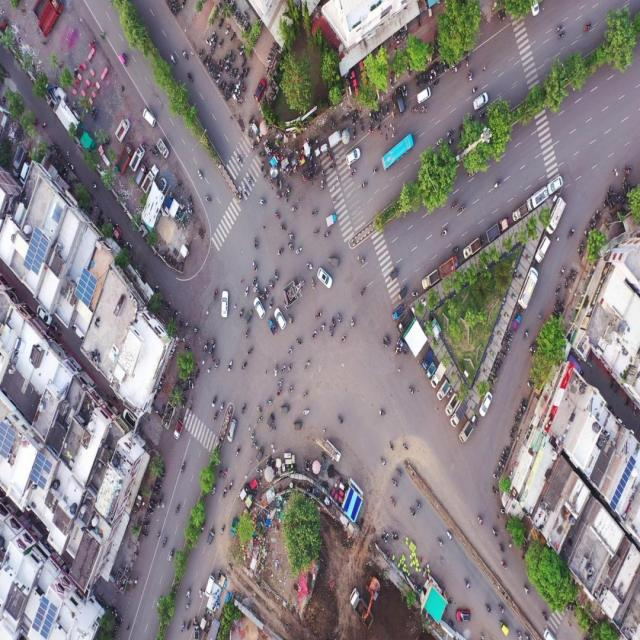3W: (499, 618, 510, 638), (325, 212, 338, 228), (328, 254, 340, 270), (116, 51, 127, 68), (388, 266, 398, 284), (397, 285, 408, 301), (207, 529, 216, 547), (244, 308, 253, 326), (292, 420, 303, 432), (279, 405, 291, 415), (256, 448, 264, 462), (266, 413, 274, 427), (208, 339, 215, 354)
Bus: (380, 132, 416, 170)
Cars: (534, 237, 550, 264), (317, 266, 333, 292), (226, 416, 239, 444), (141, 105, 156, 129), (548, 173, 564, 195), (470, 93, 489, 111), (345, 146, 361, 167), (253, 78, 267, 100), (480, 391, 492, 416), (252, 299, 266, 320), (394, 87, 404, 115), (274, 307, 286, 329), (221, 288, 229, 319), (455, 608, 471, 623), (206, 573, 216, 596), (416, 88, 431, 103)
LCV: (518, 267, 539, 310), (545, 198, 567, 233), (528, 184, 549, 213), (140, 165, 158, 193), (439, 254, 458, 280), (432, 361, 447, 389), (422, 269, 440, 292), (462, 237, 481, 258), (130, 143, 144, 170), (459, 420, 474, 445), (115, 116, 130, 140), (445, 392, 458, 417), (510, 204, 529, 221), (156, 136, 168, 162), (396, 313, 410, 334), (437, 380, 450, 400), (421, 349, 434, 369), (328, 129, 341, 148), (397, 337, 408, 356), (391, 305, 404, 321), (426, 362, 436, 381), (512, 314, 522, 332), (174, 420, 183, 440)
M2W: (457, 202, 466, 216), (314, 307, 322, 322), (408, 505, 416, 520), (492, 178, 502, 190), (554, 20, 564, 32), (378, 408, 388, 420), (407, 385, 416, 398), (390, 476, 399, 489), (440, 226, 449, 239), (567, 228, 576, 241), (349, 314, 356, 330), (243, 284, 250, 300), (541, 609, 549, 623), (288, 232, 297, 244), (497, 603, 506, 615), (476, 514, 485, 526), (514, 628, 523, 640), (359, 284, 366, 299), (246, 174, 254, 187), (379, 454, 387, 467), (554, 284, 562, 297), (288, 204, 298, 214), (317, 180, 327, 190), (214, 357, 221, 371), (287, 312, 294, 326), (309, 276, 316, 290), (446, 528, 453, 542), (340, 332, 348, 344), (286, 345, 294, 357), (273, 362, 279, 378), (168, 548, 174, 564), (161, 535, 167, 551), (490, 526, 498, 538), (186, 71, 194, 83), (559, 264, 567, 276), (466, 70, 474, 82), (335, 311, 342, 324), (242, 186, 249, 199), (500, 558, 507, 571), (92, 108, 99, 121), (300, 170, 307, 183), (310, 208, 320, 217), (264, 398, 273, 408), (212, 286, 218, 301), (372, 165, 381, 175), (583, 22, 592, 32), (451, 244, 460, 254), (485, 603, 493, 614), (522, 585, 530, 596), (252, 260, 259, 272), (196, 168, 203, 180), (268, 295, 274, 309), (306, 260, 313, 272), (269, 279, 276, 291), (240, 402, 246, 416), (211, 394, 217, 408), (212, 408, 218, 422), (174, 503, 180, 517), (180, 620, 186, 634), (186, 618, 192, 632), (390, 496, 396, 510), (437, 536, 444, 548), (464, 578, 471, 590), (182, 49, 189, 61), (169, 54, 176, 66), (522, 328, 529, 340), (72, 68, 79, 80), (92, 180, 99, 192), (243, 10, 250, 22), (210, 30, 217, 42), (414, 500, 423, 509), (258, 197, 266, 207), (235, 156, 243, 166), (276, 248, 286, 256), (287, 241, 295, 251), (246, 346, 254, 356), (295, 246, 303, 256), (451, 199, 459, 209), (418, 104, 426, 114), (411, 105, 419, 115), (336, 414, 344, 424), (358, 254, 366, 264), (227, 358, 233, 371), (180, 461, 186, 474), (90, 103, 96, 116), (194, 367, 200, 380), (577, 247, 583, 260), (218, 16, 224, 29), (230, 30, 236, 43), (311, 328, 318, 339), (280, 222, 287, 233), (243, 328, 250, 339), (185, 588, 192, 599), (524, 629, 531, 640), (212, 482, 217, 497), (304, 358, 310, 370), (295, 339, 304, 347), (280, 362, 286, 374), (238, 306, 244, 318), (204, 194, 213, 202), (250, 275, 256, 287), (276, 379, 284, 388), (256, 416, 264, 425), (220, 400, 226, 412), (200, 521, 206, 533), (402, 443, 410, 452), (498, 542, 504, 554), (446, 128, 454, 137), (470, 86, 478, 95), (153, 145, 159, 157), (259, 161, 265, 173), (263, 169, 269, 181), (274, 192, 282, 201), (353, 110, 359, 122), (389, 78, 395, 90), (519, 402, 527, 411), (579, 239, 585, 251), (225, 24, 231, 36), (239, 44, 245, 56), (240, 82, 246, 94), (210, 41, 216, 53), (222, 52, 228, 64), (241, 360, 248, 370), (253, 237, 258, 251), (274, 268, 279, 282), (276, 387, 283, 397), (251, 439, 258, 449), (397, 468, 402, 482), (361, 180, 368, 190), (320, 169, 327, 179), (240, 58, 247, 68), (264, 287, 270, 298), (235, 446, 241, 457), (228, 479, 234, 490), (185, 600, 191, 611), (351, 116, 357, 127), (202, 54, 208, 65), (331, 316, 336, 329), (250, 428, 255, 441), (223, 486, 228, 499), (312, 228, 320, 236), (288, 384, 295, 393), (447, 137, 454, 146), (558, 30, 565, 39), (141, 530, 148, 539), (143, 521, 150, 530), (193, 326, 200, 335), (492, 472, 499, 481), (497, 459, 504, 468), (498, 351, 507, 358), (491, 367, 500, 374), (246, 131, 253, 140), (328, 327, 334, 337), (320, 322, 326, 332), (275, 210, 281, 220), (389, 440, 394, 452), (350, 168, 356, 178), (327, 151, 333, 161), (360, 121, 364, 136), (368, 123, 373, 135), (385, 104, 390, 116), (433, 78, 439, 88), (218, 38, 224, 48), (206, 55, 212, 65), (219, 64, 225, 74), (223, 467, 227, 481), (381, 340, 388, 348), (146, 508, 153, 516), (204, 338, 208, 352), (284, 191, 288, 205), (452, 66, 459, 74), (502, 450, 509, 458), (526, 381, 534, 388), (503, 345, 510, 353), (569, 269, 577, 276), (149, 147, 154, 158), (352, 127, 357, 138), (403, 85, 408, 96), (588, 219, 593, 230), (229, 67, 234, 78), (228, 48, 233, 59), (216, 73, 221, 84), (253, 283, 258, 294), (286, 363, 292, 372), (302, 391, 308, 400), (149, 498, 158, 504), (268, 177, 274, 186), (412, 289, 418, 298), (503, 340, 512, 346), (568, 273, 574, 282), (206, 38, 212, 47), (198, 49, 204, 58), (266, 56, 272, 65), (218, 466, 222, 479), (221, 523, 225, 536), (279, 177, 283, 190), (276, 176, 280, 189), (564, 276, 568, 289), (286, 184, 291, 194), (244, 68, 249, 78), (231, 54, 236, 64), (226, 80, 231, 90), (234, 8, 239, 18), (324, 230, 331, 237), (148, 504, 155, 511), (479, 112, 486, 119), (496, 358, 503, 365), (154, 488, 160, 496), (377, 120, 381, 132), (380, 106, 384, 118), (390, 94, 394, 106), (480, 233, 484, 245), (384, 336, 390, 344), (494, 363, 502, 369), (238, 12, 242, 24), (243, 19, 247, 31), (437, 136, 442, 145), (372, 113, 377, 122), (221, 81, 226, 90), (429, 72, 433, 83), (218, 79, 222, 90), (329, 164, 336, 170), (500, 508, 507, 514), (272, 42, 278, 49), (270, 48, 276, 55), (415, 76, 419, 86), (423, 74, 427, 84), (497, 467, 502, 475), (234, 68, 238, 78), (261, 290, 265, 300), (437, 65, 440, 77), (218, 58, 222, 67), (419, 75, 422, 86), (427, 74, 430, 85), (240, 68, 244, 75)
Truck: (39, 0, 61, 35), (116, 141, 133, 173)
